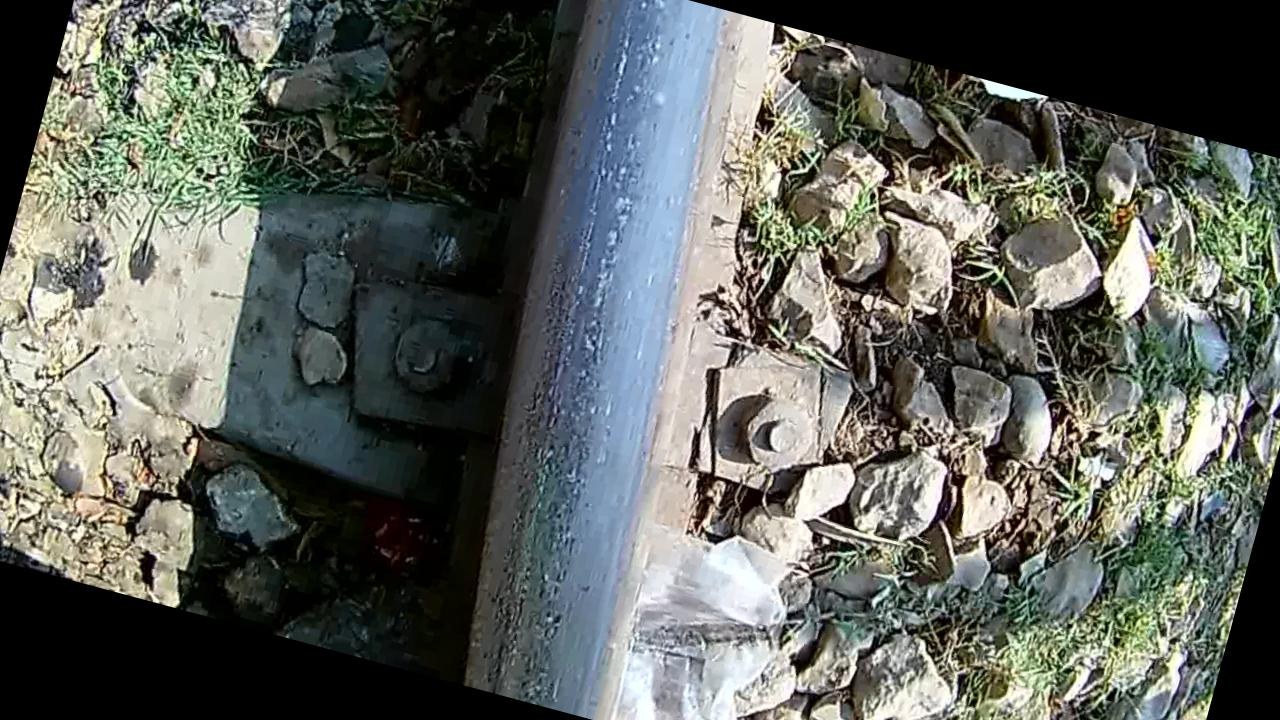clip_missing: (427, 0, 743, 709)
